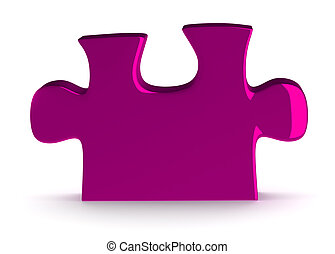puzzle piece: (24, 16, 319, 213)
